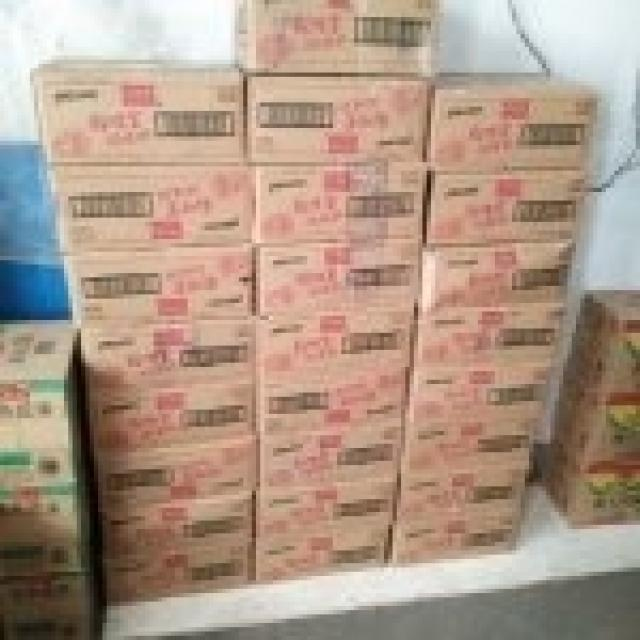box: (30, 60, 243, 162), (43, 166, 247, 252), (427, 73, 593, 171), (64, 243, 252, 329), (0, 316, 90, 495), (247, 77, 431, 162), (235, 0, 439, 73), (85, 380, 252, 461), (252, 166, 427, 239), (77, 316, 252, 388), (256, 243, 422, 316), (98, 439, 252, 516), (427, 171, 585, 243), (0, 469, 98, 580), (102, 495, 252, 567), (0, 538, 102, 640), (102, 538, 252, 606), (256, 316, 414, 380), (546, 371, 640, 474), (422, 243, 572, 307), (414, 307, 563, 371), (260, 371, 405, 435), (260, 427, 401, 491), (405, 367, 550, 427), (563, 290, 640, 401), (538, 444, 640, 525), (256, 525, 388, 585), (256, 482, 397, 538), (401, 422, 538, 478), (388, 516, 521, 563), (397, 474, 525, 521)
